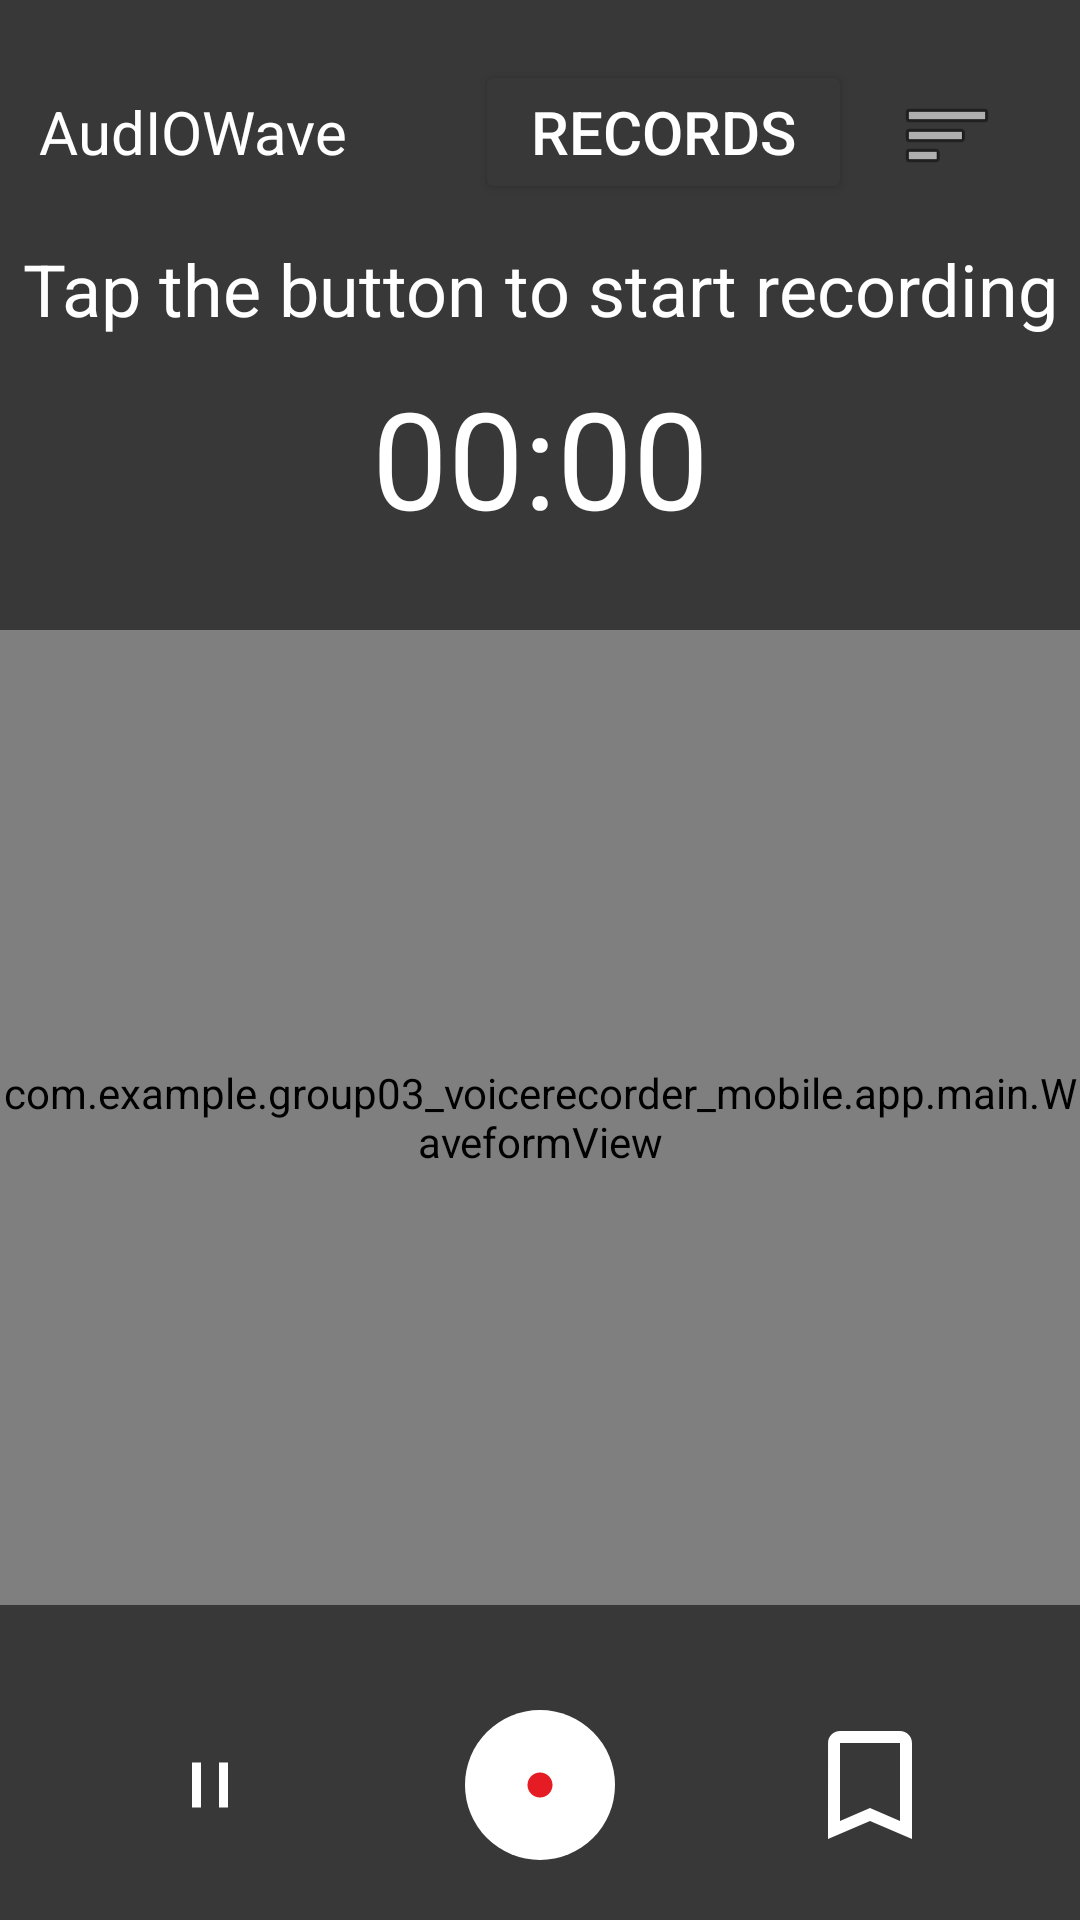

Named icons in this screenshot (1080 × 1920) and their bounding boxes, rect(x1, y1, x2, y2):
bookmark border: rect(828, 1731, 912, 1839)
Pause: rect(192, 1762, 228, 1808)
Record/Stop: rect(465, 1710, 615, 1860)
